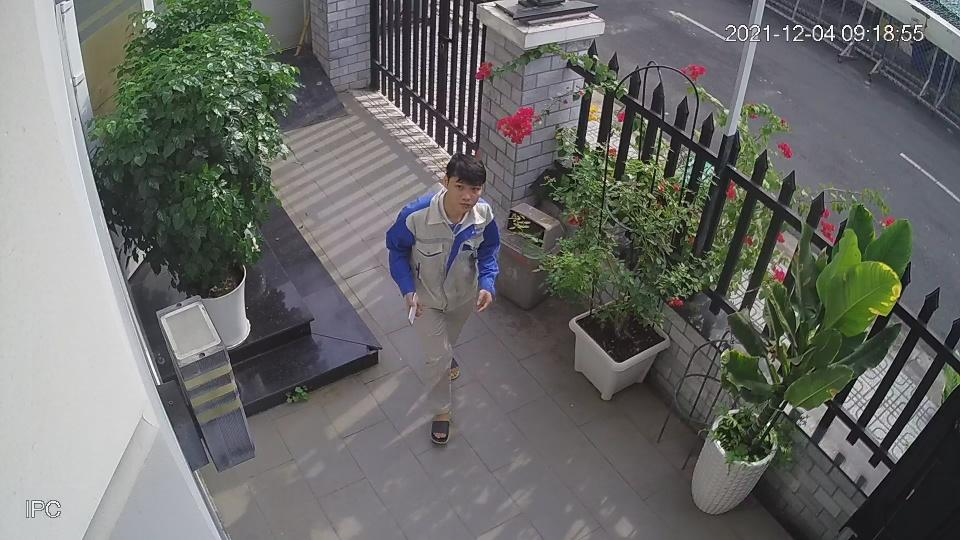person: (389, 154, 500, 445)
